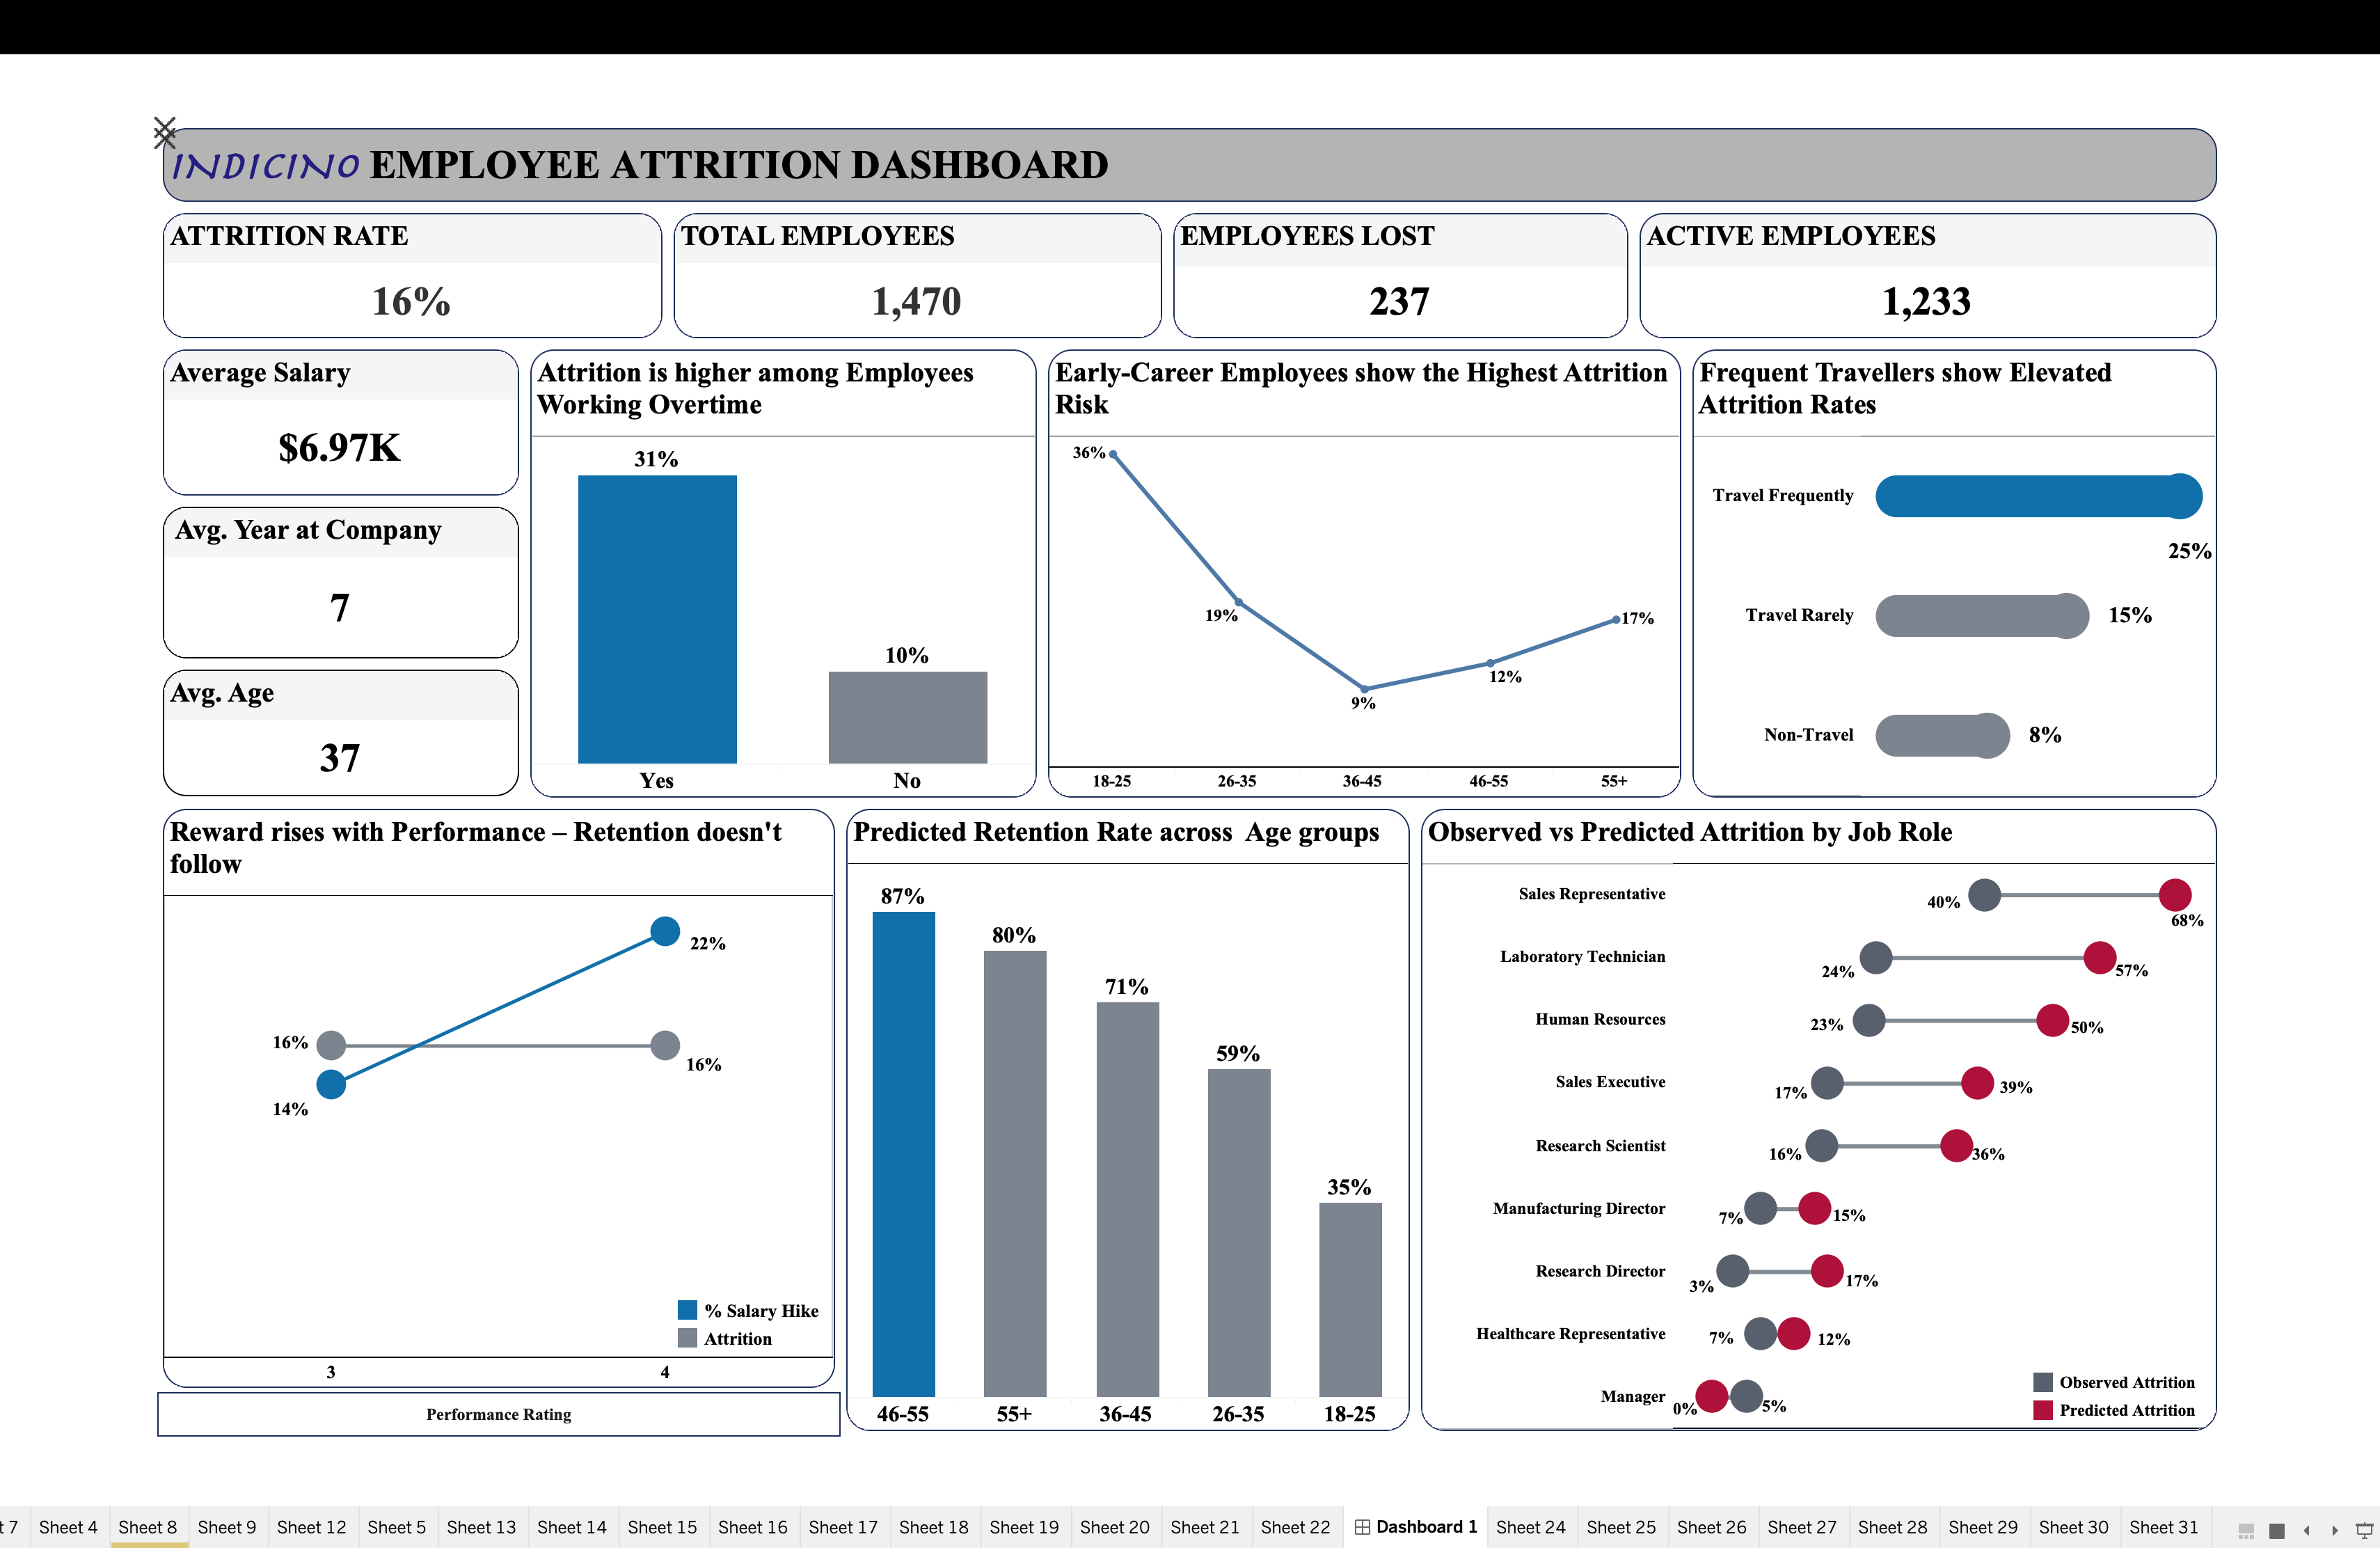

The page's visual inventory and layout, read from the dashboard file:
{"tool":"tableau","page":{"name":"Dashboard 1","canvas":[1400,960],"ordinal":0},"visuals":[{"type":"dashboard-object","box":[0,0,24,23]},{"type":"dashboard-object","box":[0,7.7,24,23]},{"type":"text","box":[8,8,1384,61]},{"type":"worksheet","title":"Sheet 15","mark":"Text","box":[8,69,458,119]},{"type":"worksheet","title":"Sheet 16","mark":"Automatic","box":[466,69,483,119]},{"type":"worksheet","title":"Sheet 17","mark":"Automatic","box":[949,69,443,119]},{"type":"worksheet","title":"Sheet 3","mark":"Bar","rows":["Calculation_0166888231436288"],"cols":["OverTime"],"box":[8,188,408,312.8]},{"type":"worksheet","title":"Sheet 20","mark":"Line","rows":["Calculation_0166888231436288"],"cols":["AgeGroup"],"box":[416,188,486,312.8]},{"type":"worksheet","title":"Sheet 5","mark":"Line","rows":["BusinessTravel"],"box":[902,188,490,312.8]},{"type":"worksheet","title":"Sheet 4","mark":"Circle","rows":["JobRole"],"box":[8,500.8,544,451.2]},{"type":"worksheet","title":"Sheet 24","mark":"Line","cols":["PerformanceRating"],"box":[552,500.8,431.8,451.2]},{"type":"worksheet","title":"Sheet 9","mark":"Bar","rows":["Calculation_0166888303149059"],"cols":["AgeBand"],"box":[983.8,500.8,408.2,451.2]}]}

Visuals, with their boxes on the page's 1400x960 design canvas (x1, y1, x2, y2). These are canvas units, not pixel positions in the 2380x1548 screenshot, which may show the page scaled, cropped or inside an application window:
dashboard-object: (0, 0, 24, 23)
dashboard-object: (0, 8, 24, 31)
text: (8, 8, 1392, 69)
"Sheet 15" worksheet (Text marks): (8, 69, 466, 188)
"Sheet 16" worksheet: (466, 69, 949, 188)
"Sheet 17" worksheet: (949, 69, 1392, 188)
"Sheet 3" worksheet (Bar marks): (8, 188, 416, 501)
"Sheet 20" worksheet (Line marks): (416, 188, 902, 501)
"Sheet 5" worksheet (Line marks): (902, 188, 1392, 501)
"Sheet 4" worksheet (Circle marks): (8, 501, 552, 952)
"Sheet 24" worksheet (Line marks): (552, 501, 984, 952)
"Sheet 9" worksheet (Bar marks): (984, 501, 1392, 952)
